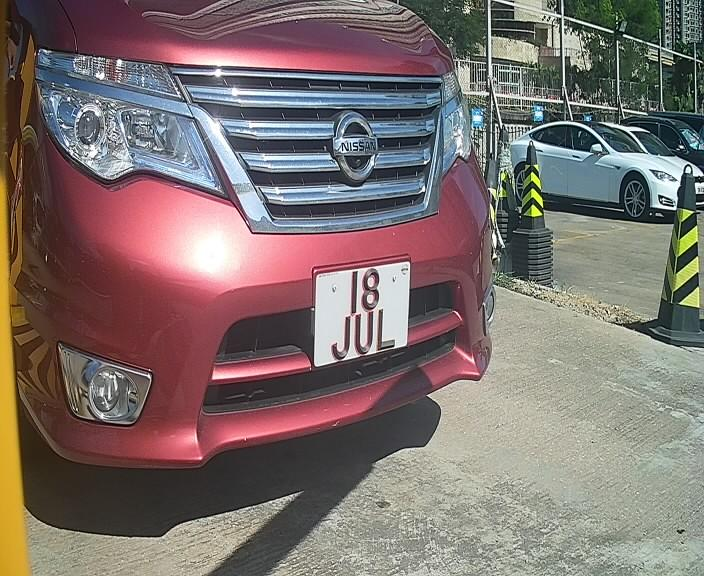Car: (10, 3, 529, 530)
License Plate: (309, 250, 412, 376)
